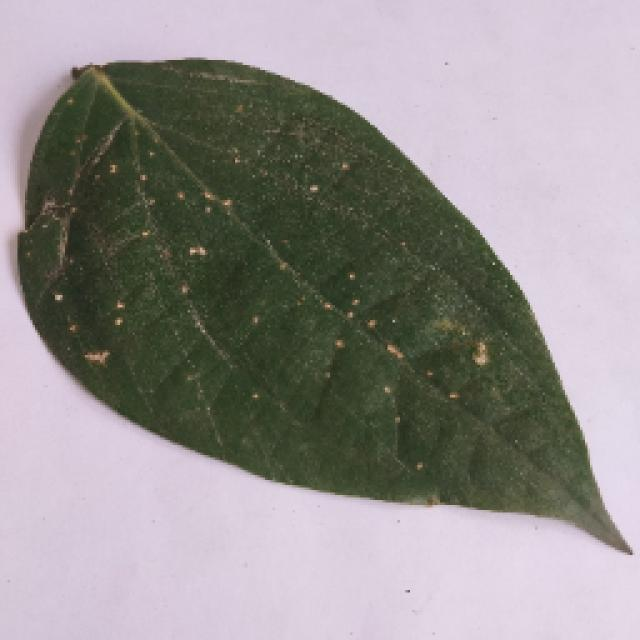pollu-disease: (7, 58, 625, 562)
